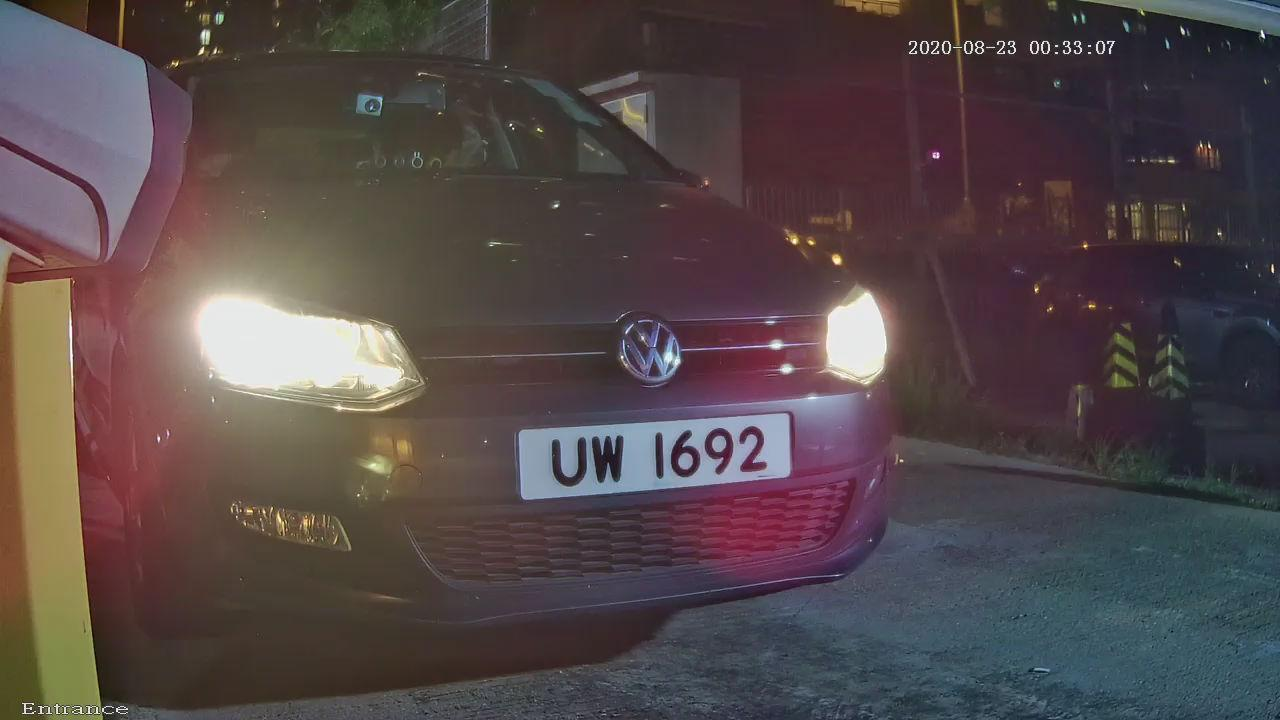Car: (1, 26, 1029, 685)
License Plate: (503, 406, 800, 505)
